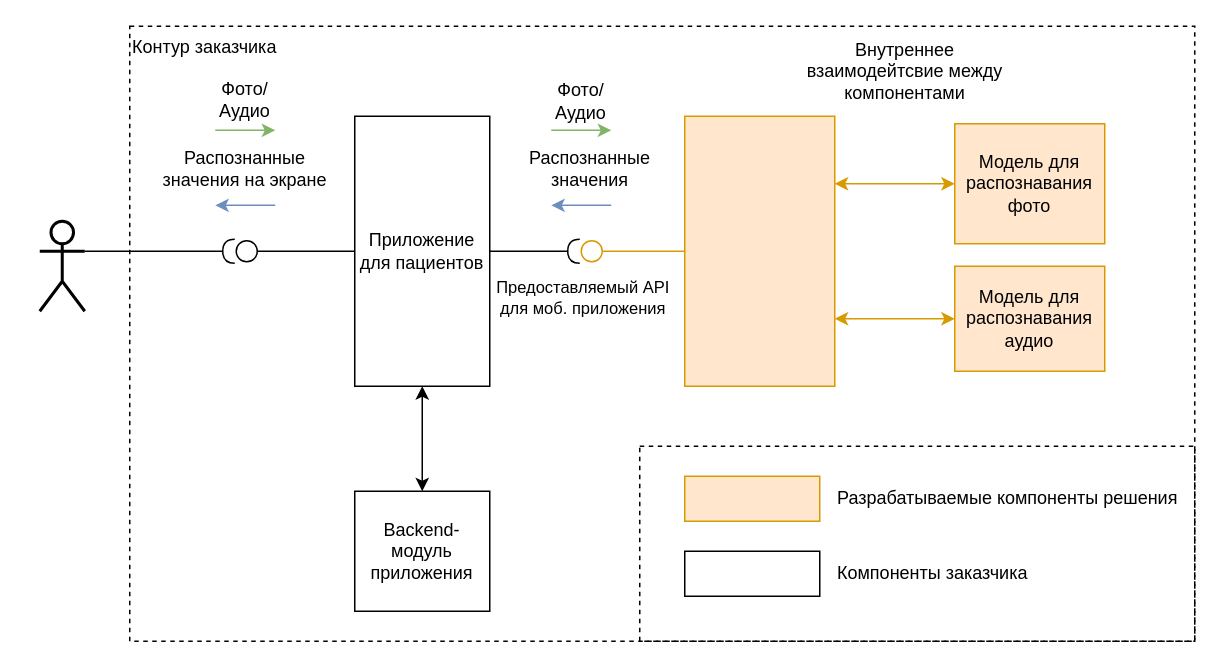
Image size: 1221x668. Some labels were removed from this diagram. Each missing label, with the box of its shape:
Backend сервиса для быстрого ввода данных: (683, 115, 835, 386)
Пациент: (38, 219, 86, 312)
